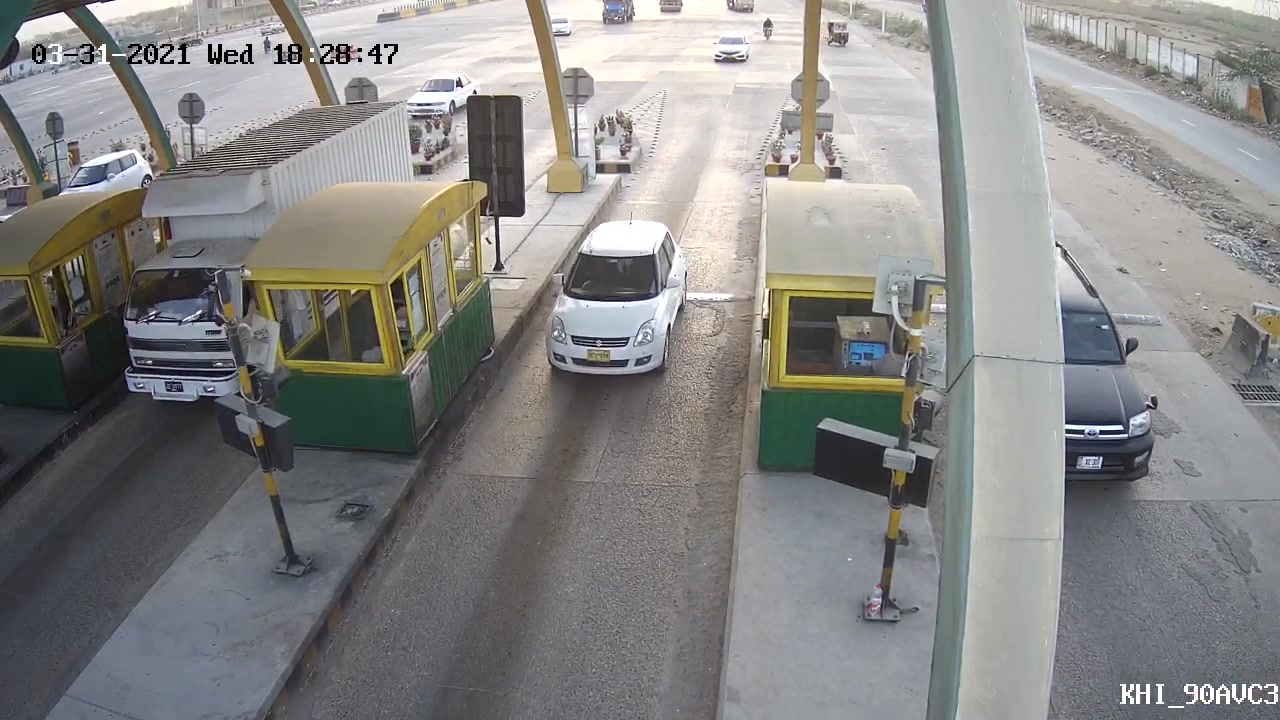F1: (543, 212, 690, 379)
